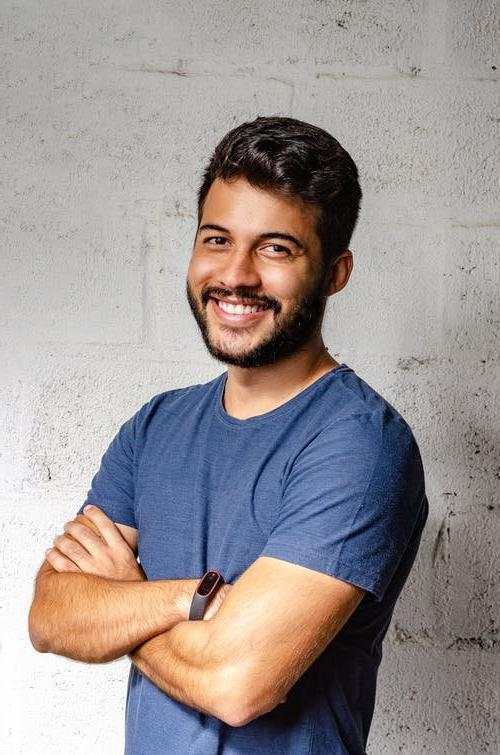Sober: (189, 192, 315, 351)
